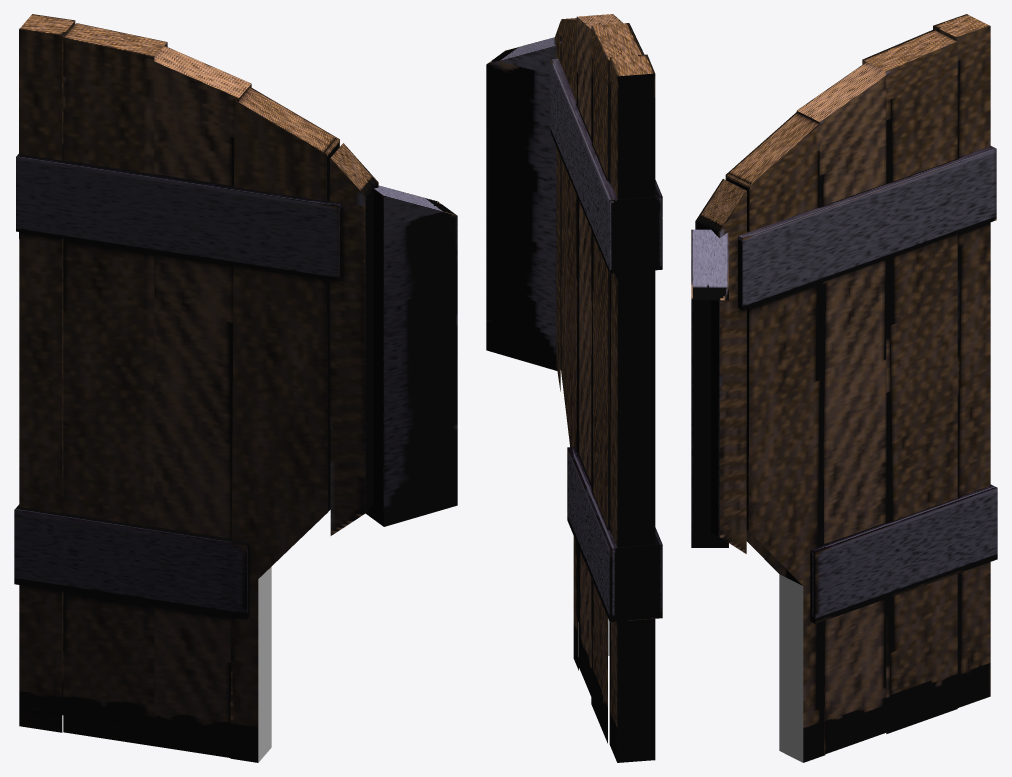
The model's file is DoorSide1F5.obj.
3 renders of one model, left to right at view 1: azimuth 30°, elevation 25°; view 2: azimuth 150°, elevation 25°; view 3: azimuth 270°, elevation 25°, orthographic. The views are drawn at different scales.
Visible parts, largest first — view 1: object 2, DoorSide1F5_Cube.434; view 2: object 2; view 3: object 2, DoorSide1F5_Cube.434.
Boxes of the visible parts, bbox=[...] form: object 2: bbox=[14, 14, 457, 762]; DoorSide1F5_Cube.434: bbox=[258, 567, 271, 762]; object 2: bbox=[486, 14, 662, 762]; object 2: bbox=[691, 14, 997, 762]; DoorSide1F5_Cube.434: bbox=[779, 574, 803, 762].
Size of the model in its own units: 80.71 by 178 by 73.87.
